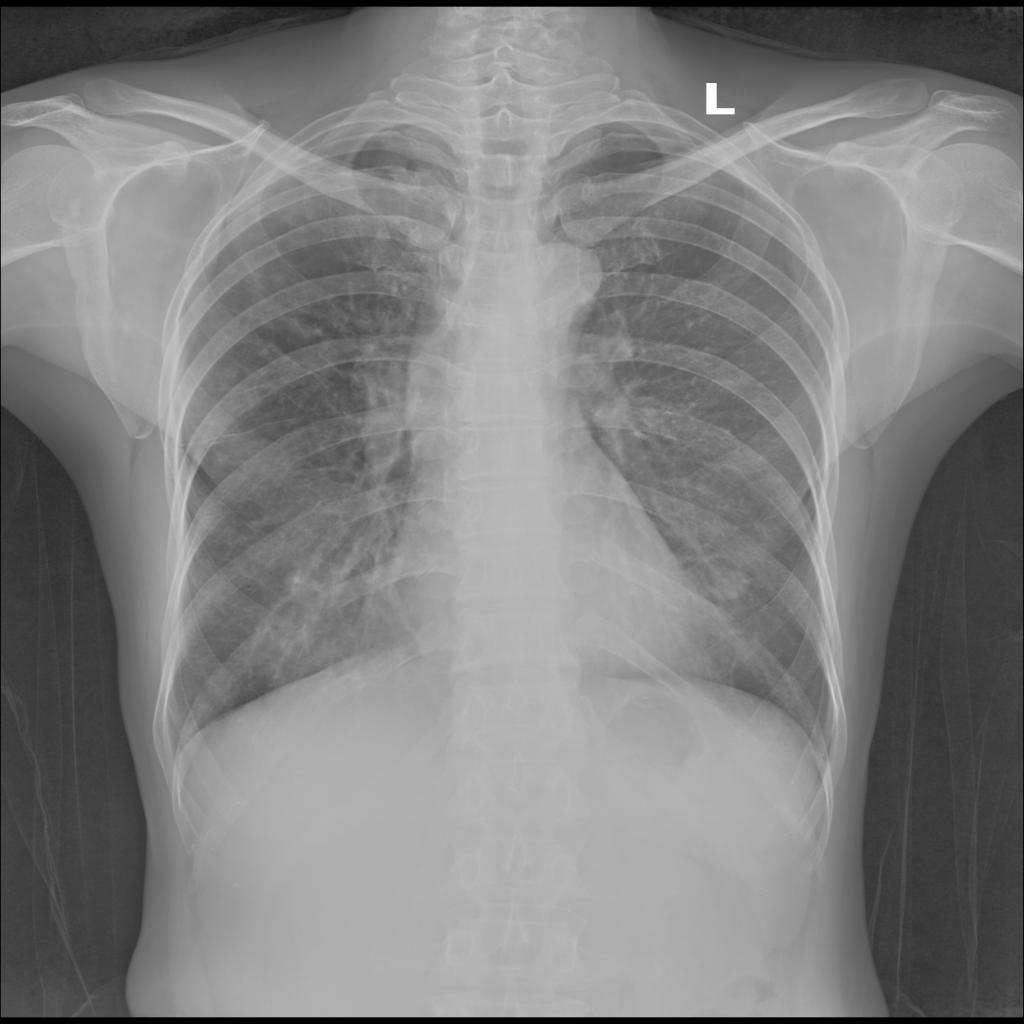Nodule: (714, 570, 751, 603)
